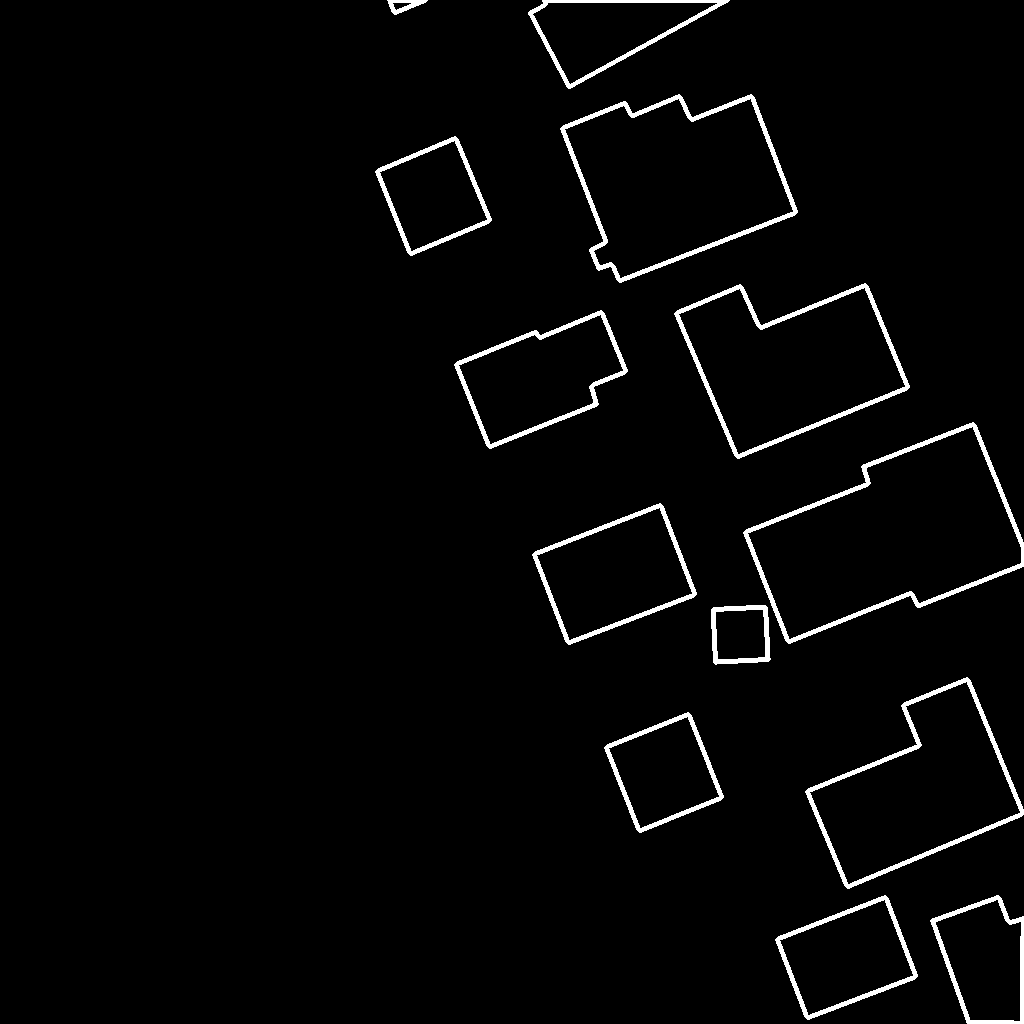building: (745, 424, 1024, 643), (807, 679, 1024, 888), (562, 96, 797, 282), (676, 285, 909, 458), (456, 312, 627, 448), (534, 505, 696, 644), (530, 0, 729, 88), (777, 897, 917, 1019), (606, 714, 723, 832), (377, 138, 491, 255), (932, 897, 1024, 1024), (713, 607, 769, 663), (389, 0, 428, 14)
